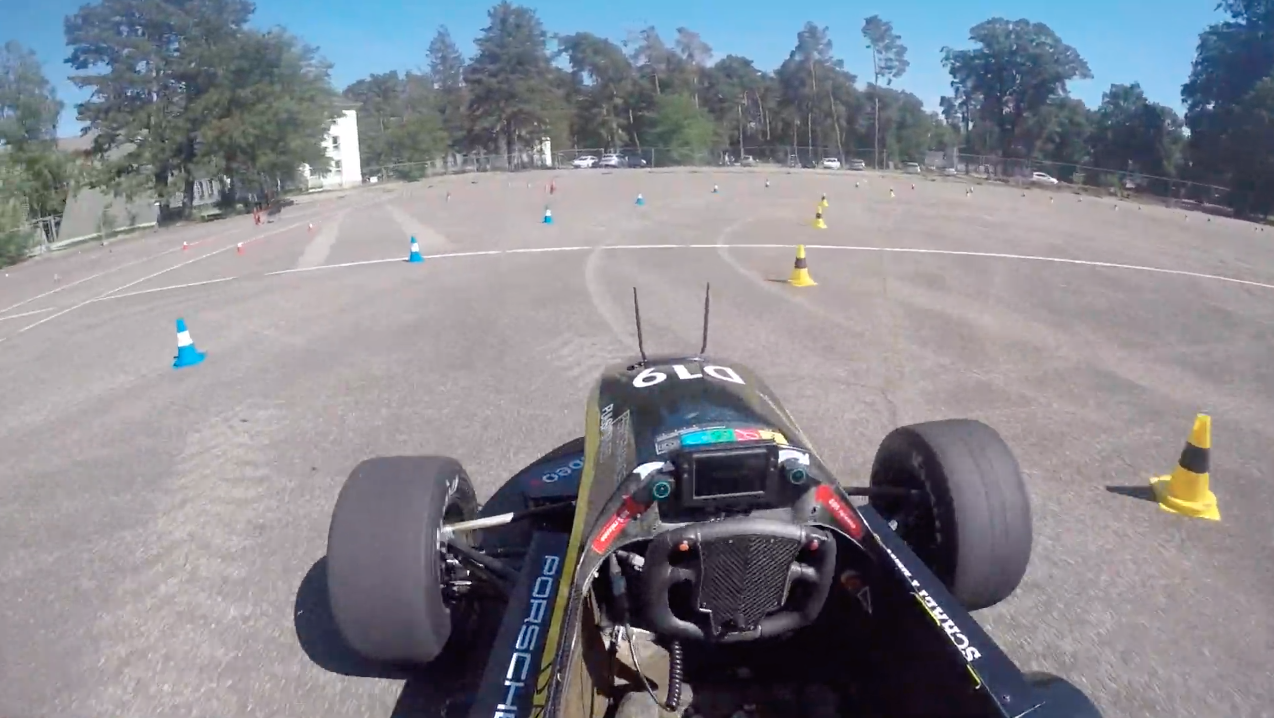lcone: (164, 314, 212, 372), (401, 233, 428, 267), (539, 203, 558, 226)
rcone: (1136, 404, 1233, 525), (783, 241, 821, 290), (808, 203, 830, 231)
